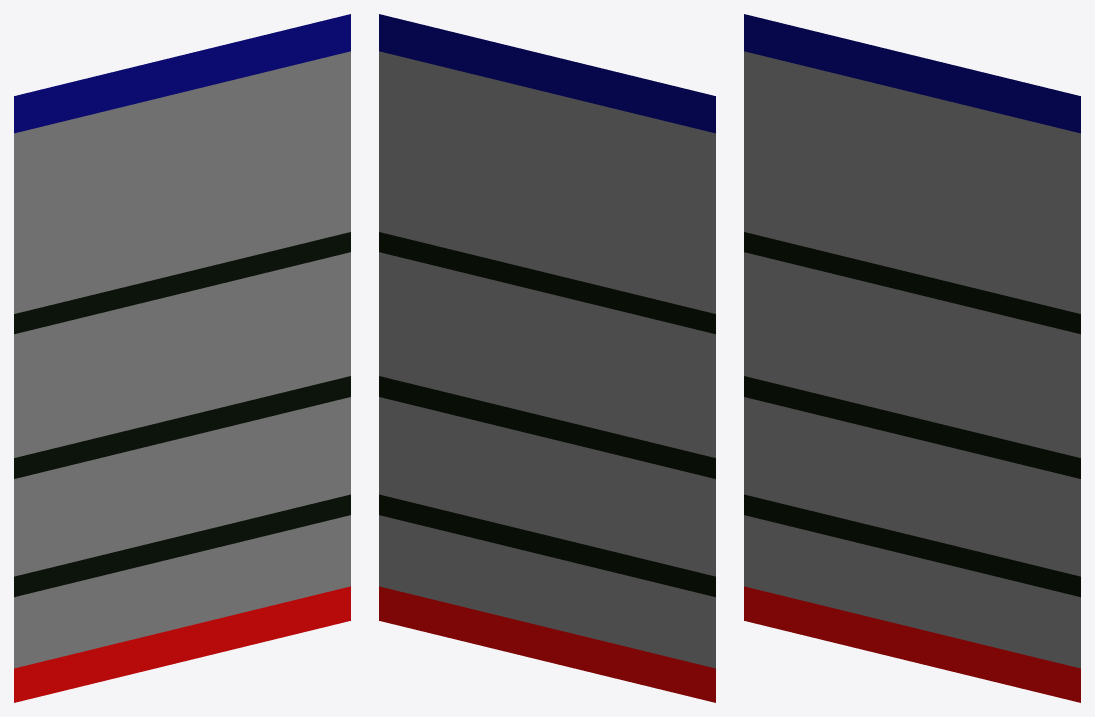
Rendered from Floor.obj.
3 renders of one model, left to right at view 1: azimuth 30°, elevation 25°; view 2: azimuth 150°, elevation 25°; view 3: azimuth 330°, elevation 25°, orthographic.
Visible parts, largest first — view 1: Base; view 2: Base; view 3: Base.
Part boxes in pixels (<box>): Base: <box>14,14,350,702</box>; Base: <box>379,14,715,702</box>; Base: <box>744,14,1080,702</box>.
Size of the model in its own units: 11.15 by 19.2 by 0.
